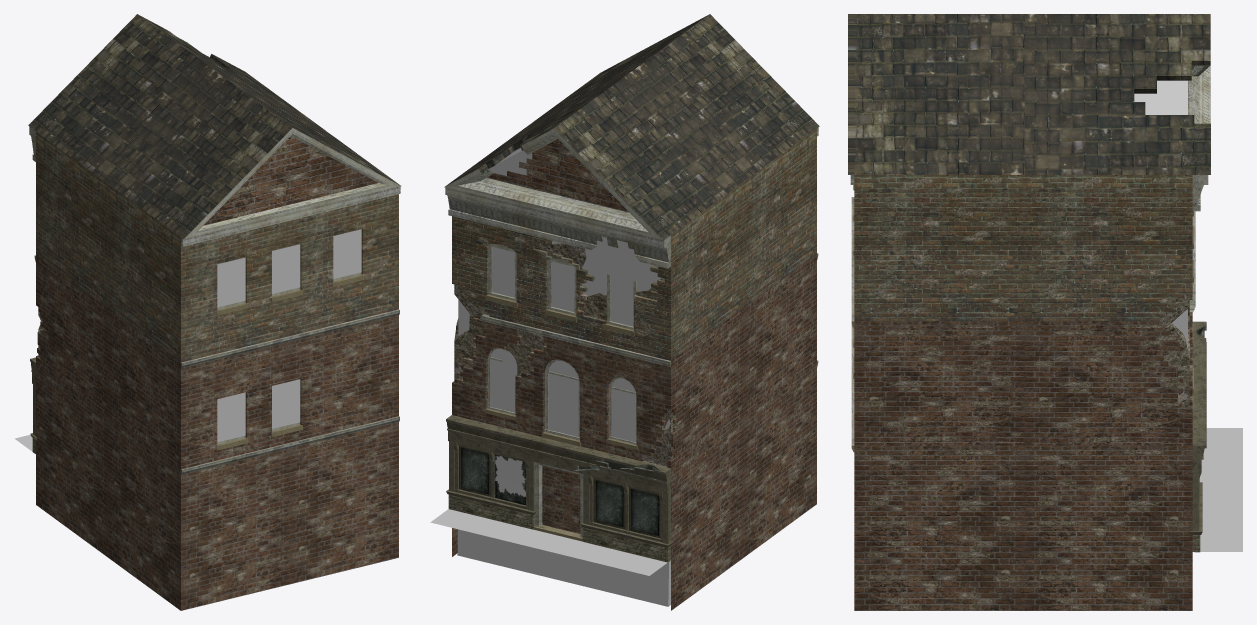
File: OTBuilding02.FBX
3 views of the same model, side by side, from view 1: azimuth 30°, elevation 25°; view 2: azimuth 150°, elevation 25°; view 3: azimuth 270°, elevation 25° (orthographic). The views are drawn at different scales.
Parts seen in each view (by area): view 1: OTBldg02:6, OTBldg02:7, OTBldg02_lod:0; view 2: OTBldg02:6, OTBldg02:7, OTBldg02_lod:0, OTBldg02:74, OTBldg02:34; view 3: OTBldg02:6, OTBldg02:7, OTBldg02:74, OTBldg02_lod:0.
Part boxes in pixels (x1,y1,x2,y2): OTBldg02:6: (32,131,398,610); OTBldg02:7: (28,14,401,474); OTBldg02_lod:0: (217,229,361,442); OTBldg02:6: (448,128,816,610); OTBldg02:7: (444,14,819,547); OTBldg02_lod:0: (457,148,670,606); OTBldg02:74: (430,509,667,575); OTBldg02:34: (494,454,525,505); OTBldg02:6: (854,81,1200,610); OTBldg02:7: (848,14,1210,534); OTBldg02:74: (1200,428,1242,551); OTBldg02_lod:0: (1134,80,1187,349).
Bounding box in the file's own units: 6.49 × 12.87 × 8.61.
